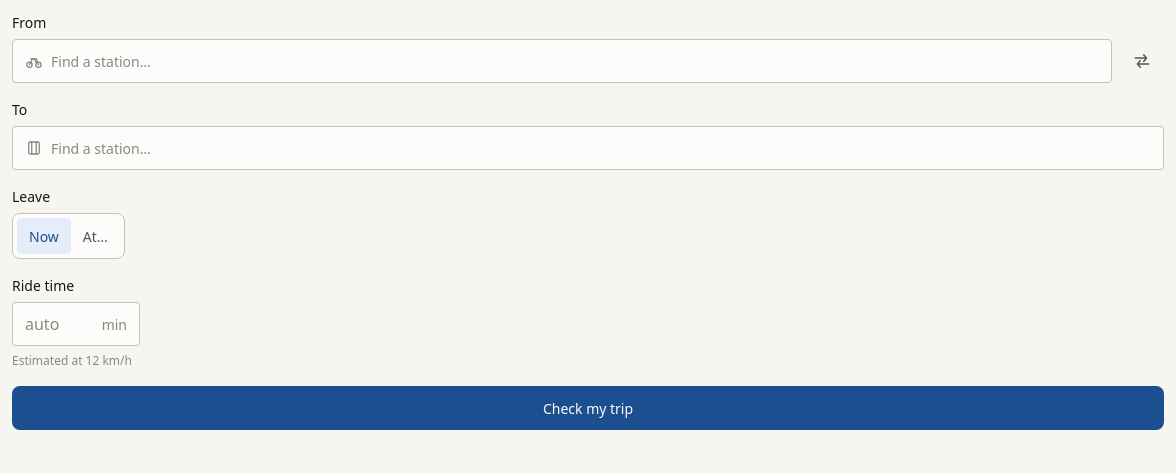
Test case: TripPlanner › shows a validation error on empty submit
Step 1. Click the button "Check my trip" → (588, 408), box [12, 386, 1164, 430]
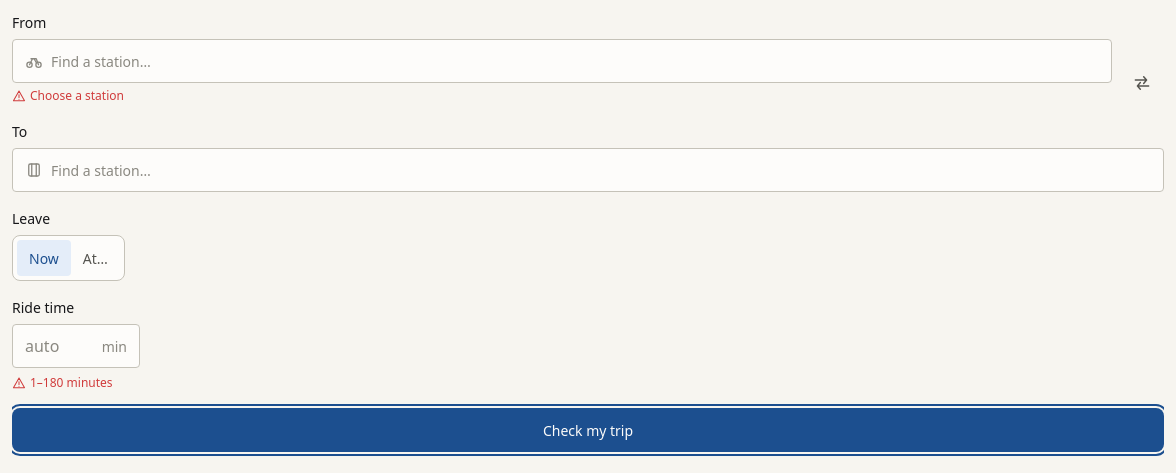
Expected: the text "Choose a station" is shown, [12, 87, 124, 104]
